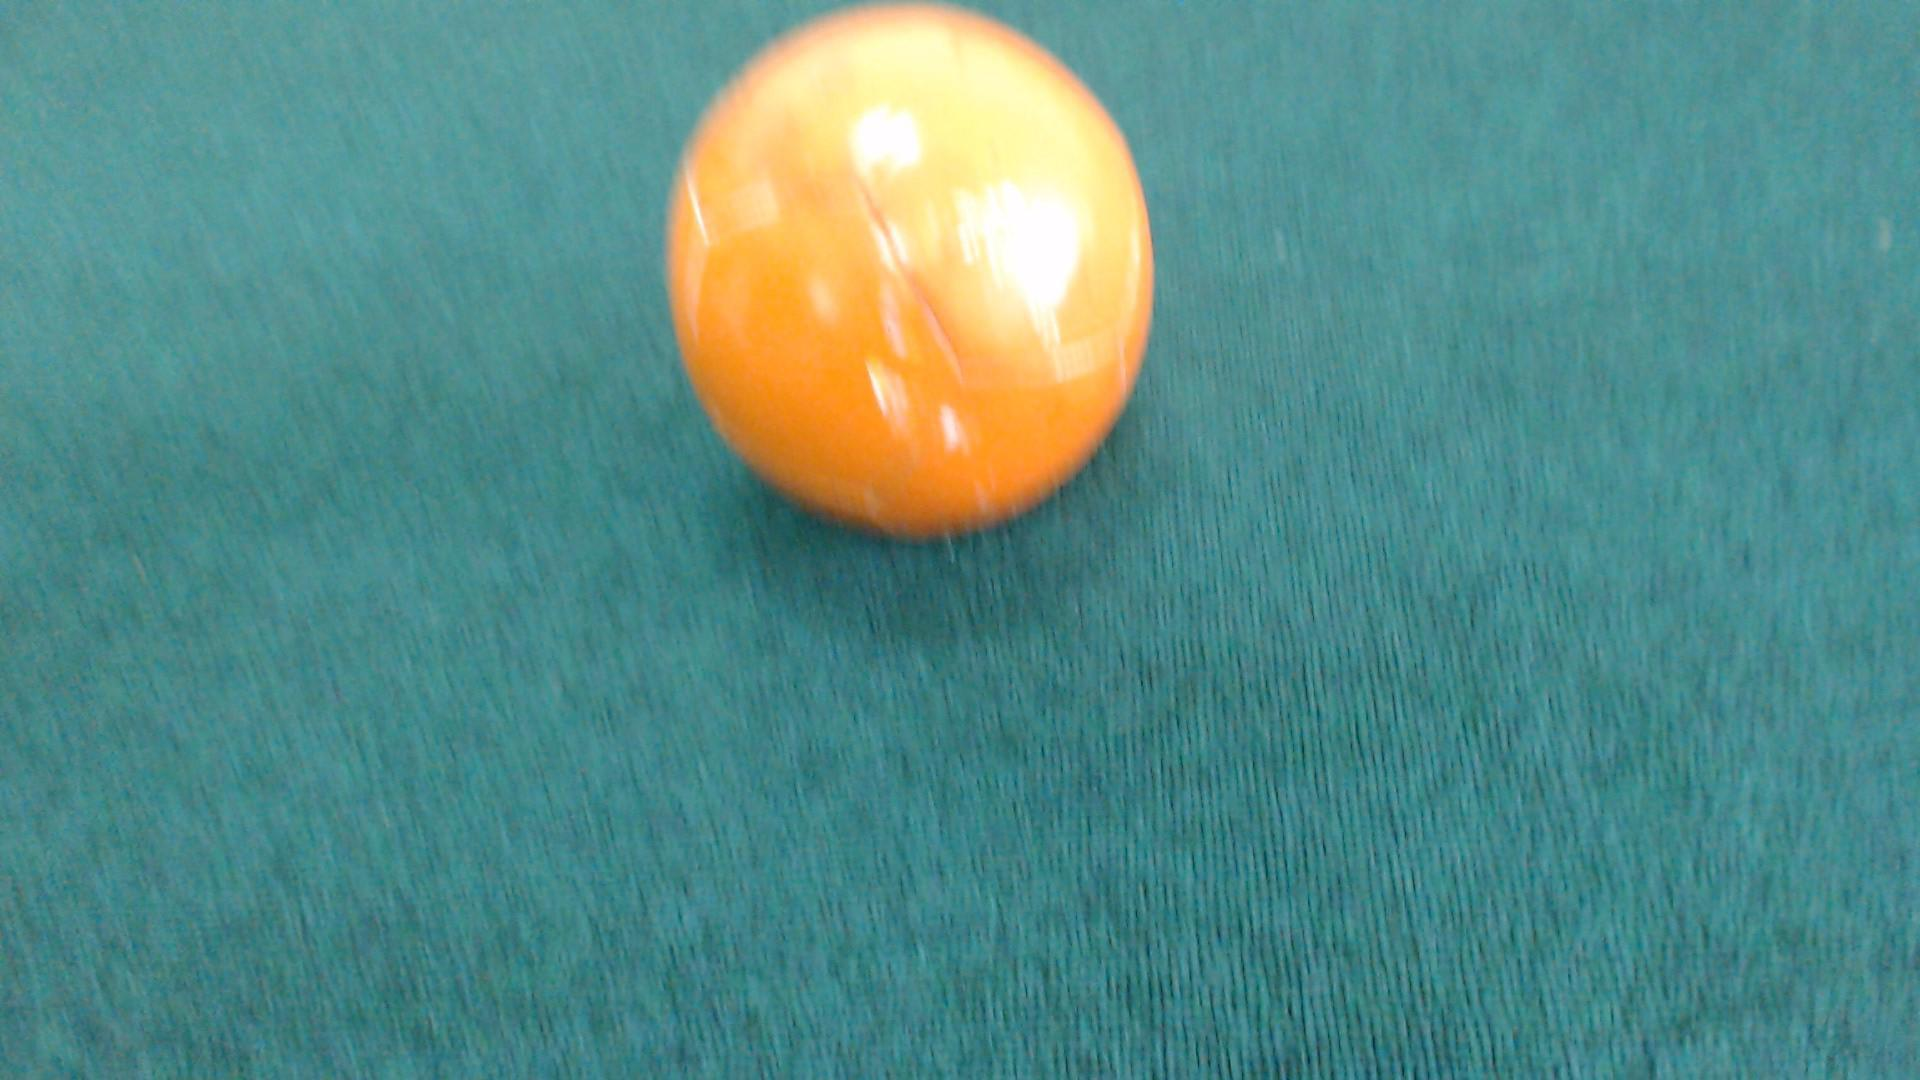bola: (640, 0, 1163, 562)
